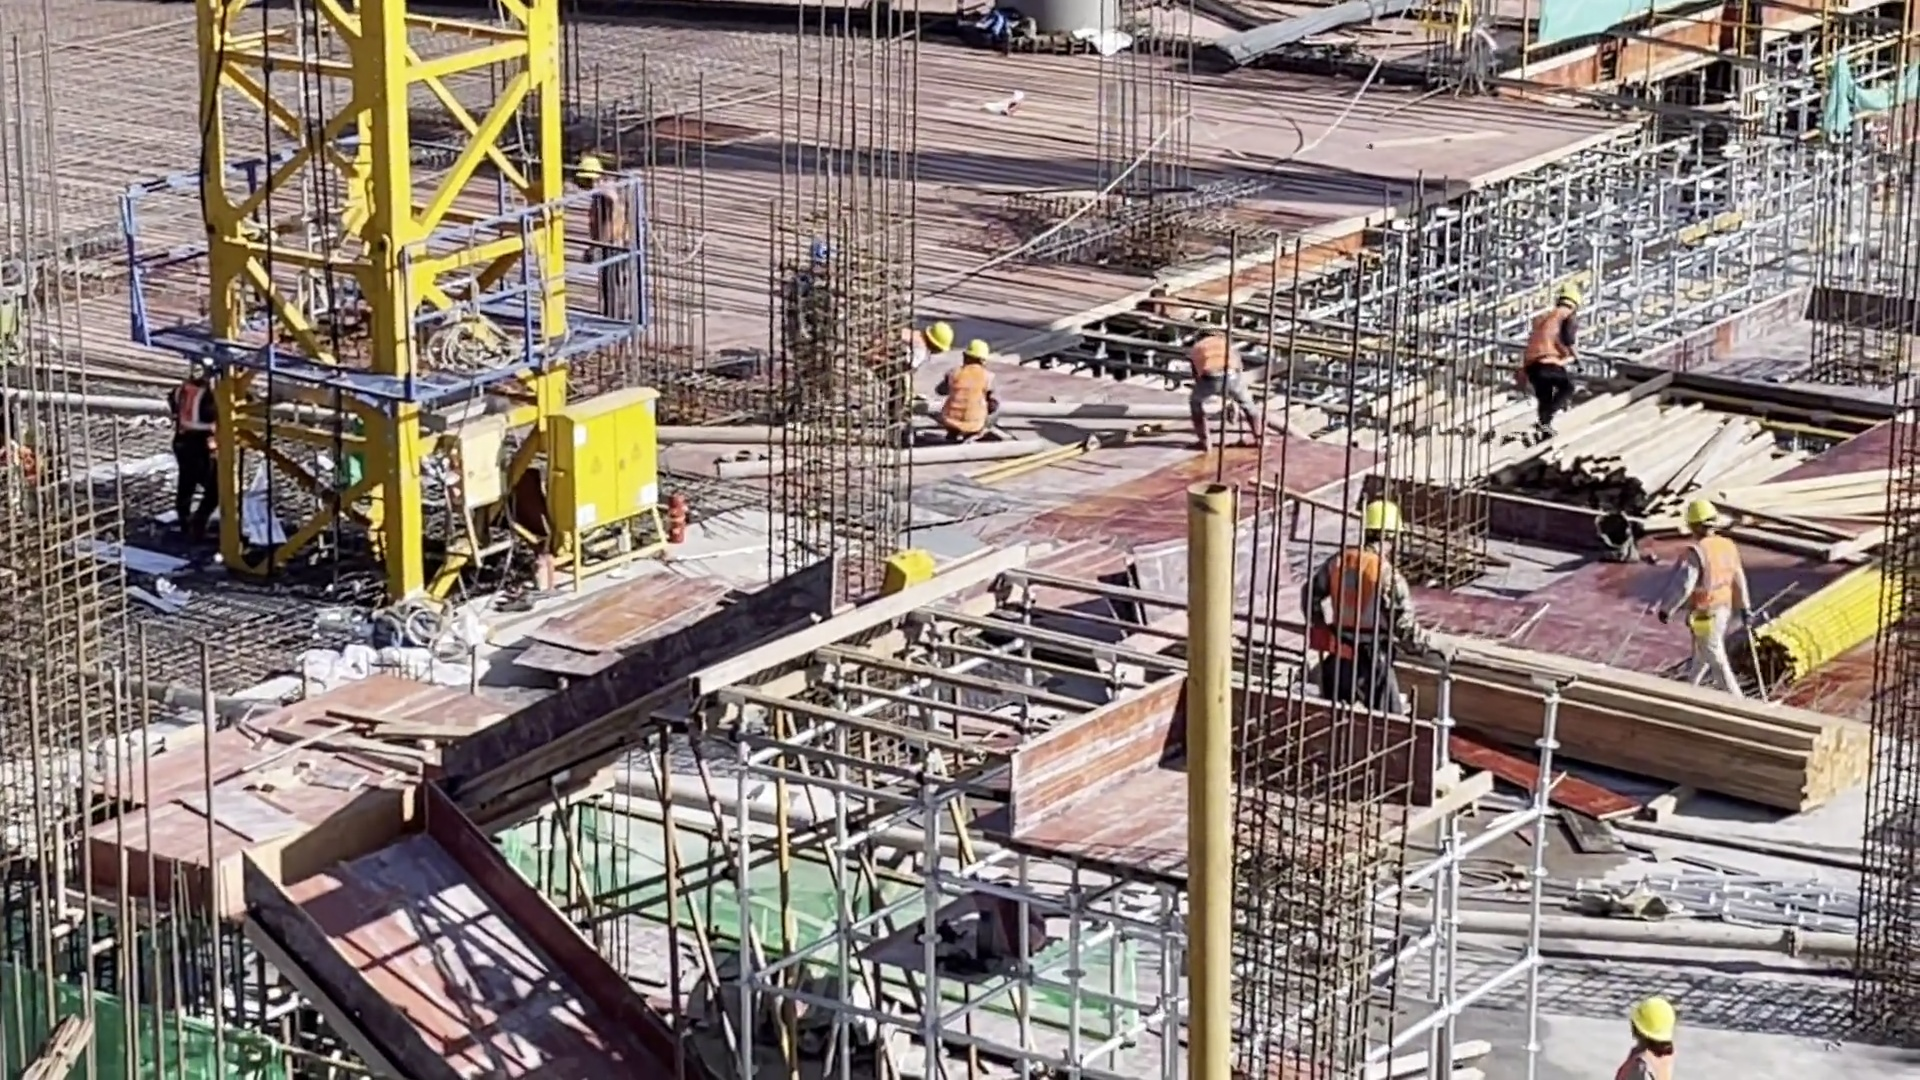ebox: (551, 389, 658, 539)
helmet: (1631, 999, 1675, 1041), (1359, 499, 1404, 533), (923, 322, 953, 353), (1686, 501, 1718, 523), (1558, 286, 1582, 310), (576, 156, 602, 178), (963, 339, 989, 360)
person: (1301, 499, 1417, 708), (1665, 501, 1745, 691), (1178, 326, 1273, 445), (166, 350, 223, 538), (1521, 283, 1577, 445), (871, 322, 952, 427), (577, 157, 625, 316), (942, 341, 1000, 443), (1616, 997, 1680, 1080)
vest: (1325, 553, 1400, 654), (1694, 545, 1738, 634), (166, 388, 217, 451), (1523, 312, 1570, 376), (955, 365, 992, 431), (1179, 338, 1240, 377)
wood: (1466, 647, 1867, 812), (1551, 407, 1803, 525)
